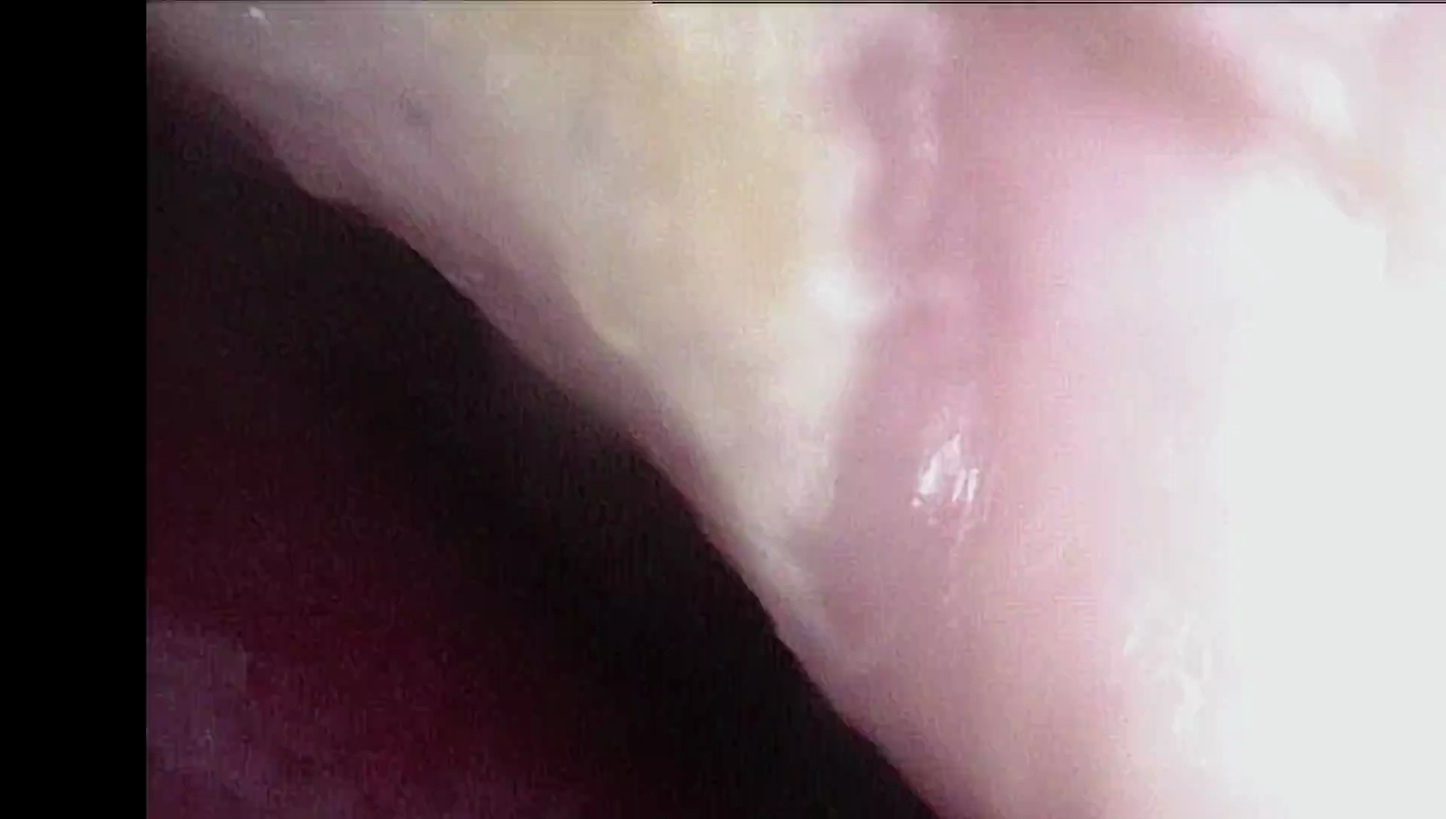close_wall: (340, 5, 1446, 819)
next: (155, 133, 533, 534), (439, 436, 773, 711), (639, 555, 949, 819)
